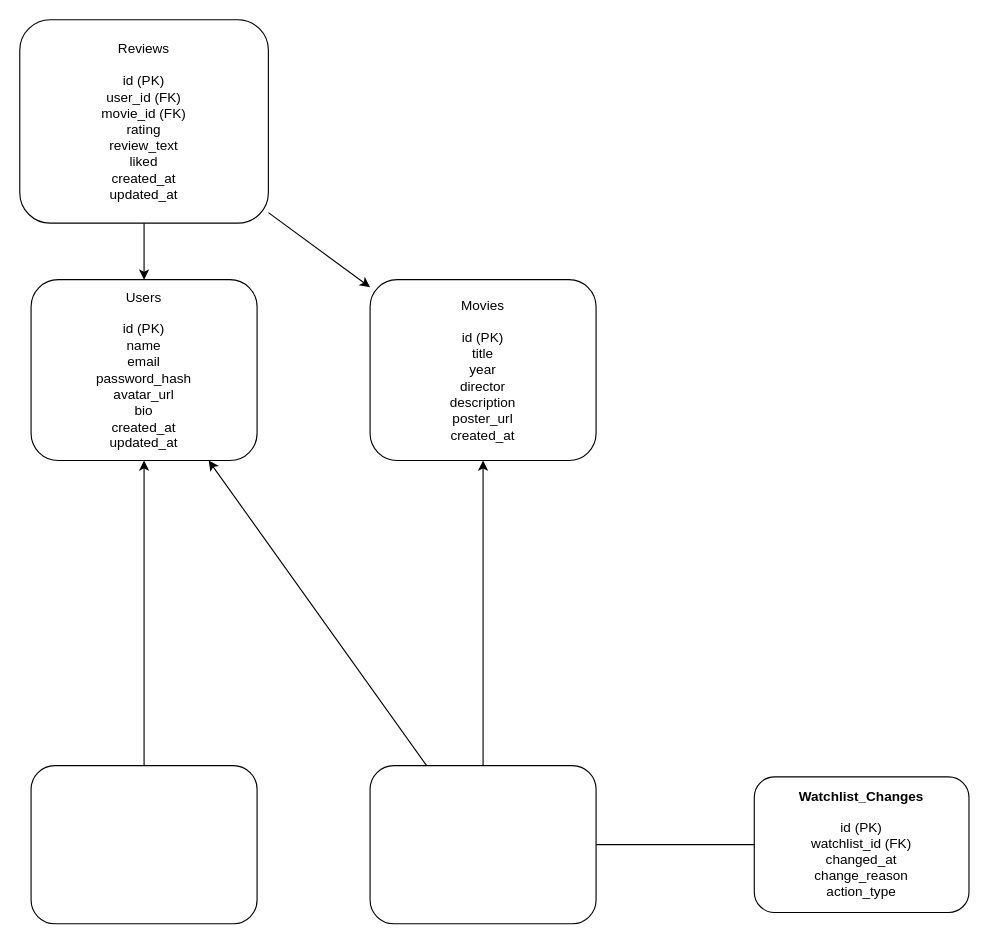
This 989x949 diagram has some shape labels left out. Here are the shapes that lost their labels. From the top down, the box of each, then its label:
(30, 764, 257, 924): Follows id (PK) follower_id (FK) following_id (FK) created_at
(369, 764, 596, 924): Watchlist id (PK) user_id (FK) movie_id (FK) created_at status
